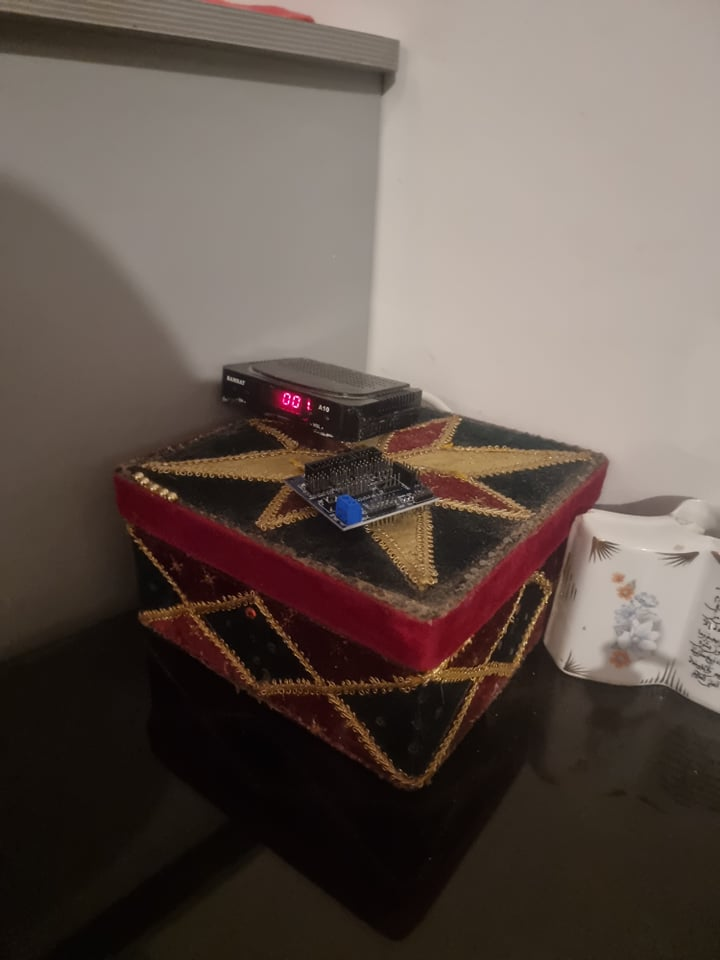5V EXPANSION: (283, 443, 439, 533)
